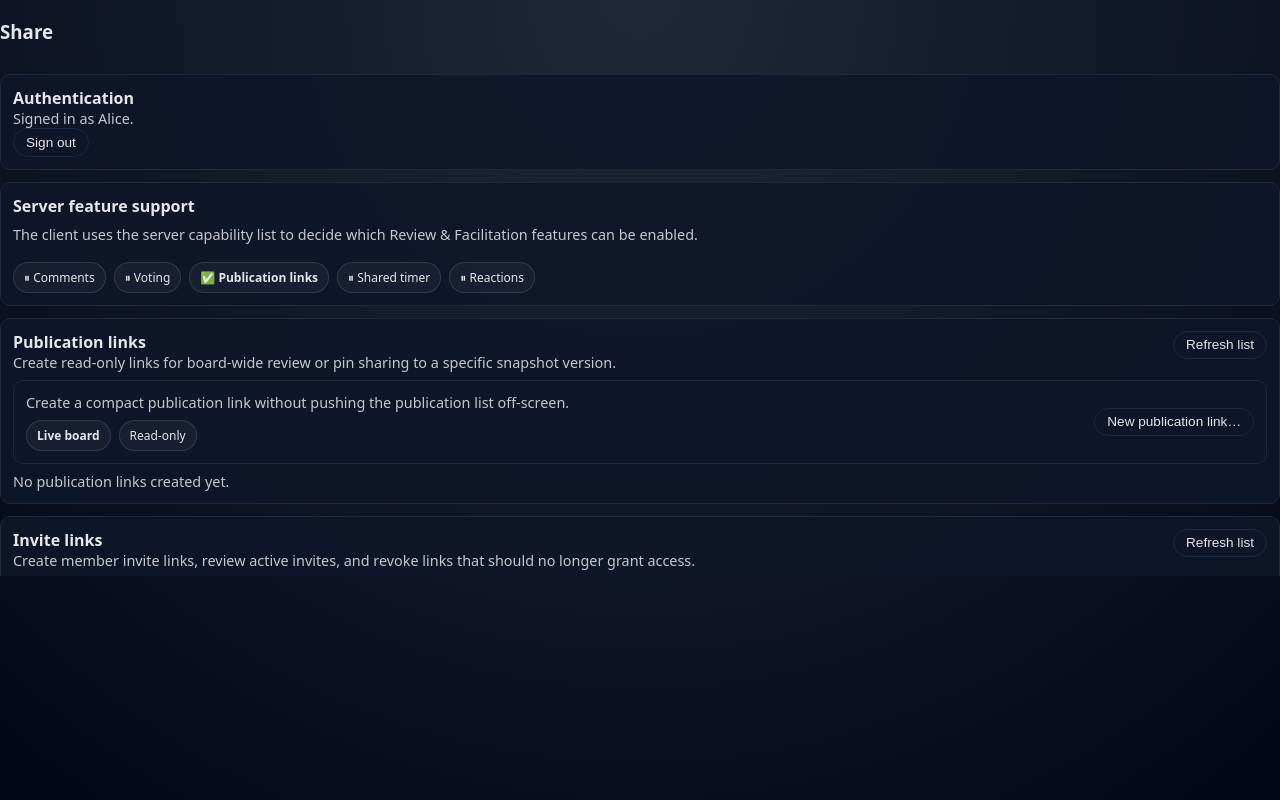
SharePanel publications › creates publication links when server capabilities advertise publications
The image size is (1280, 800).
Click the button "New publication link…" at (1174, 422), box [1094,408,1254,436]
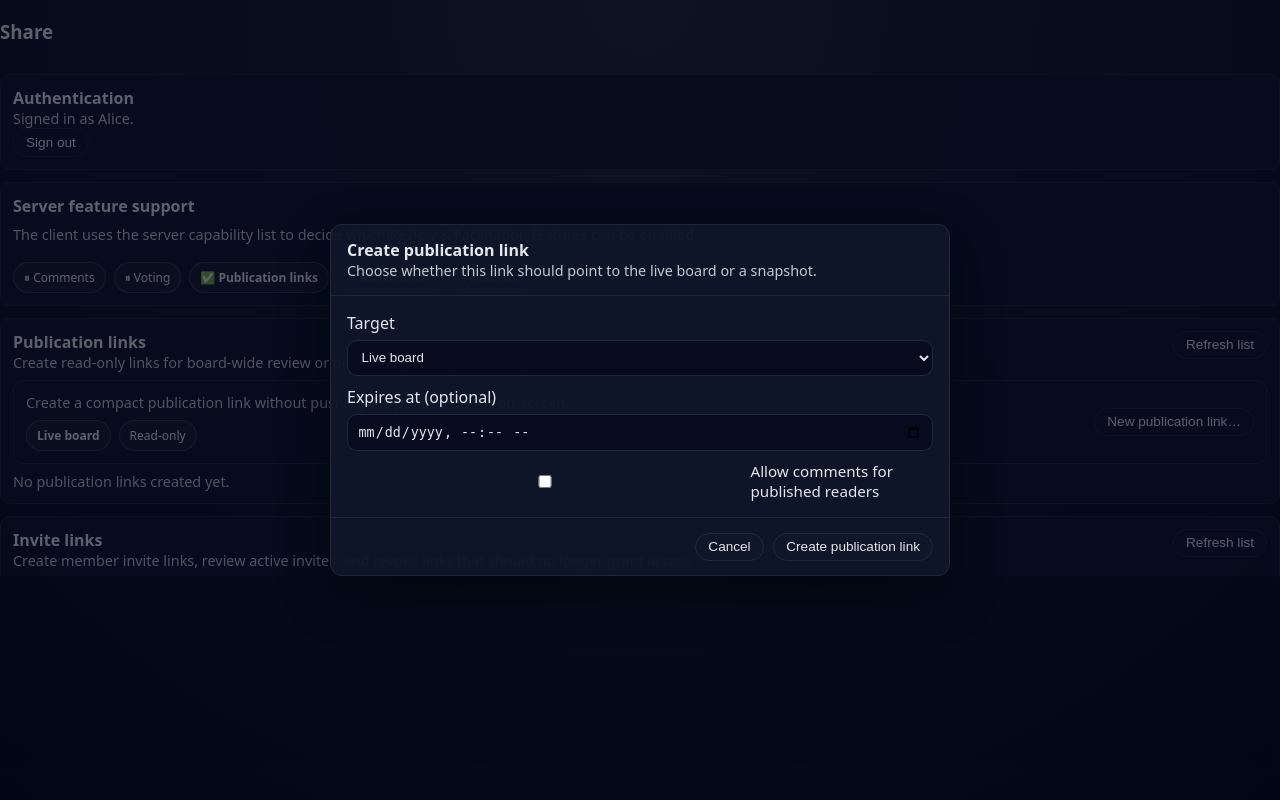
Select "Specific snapshot" in the dropdown named "Publication target" at (640, 358), box [347,340,933,376]
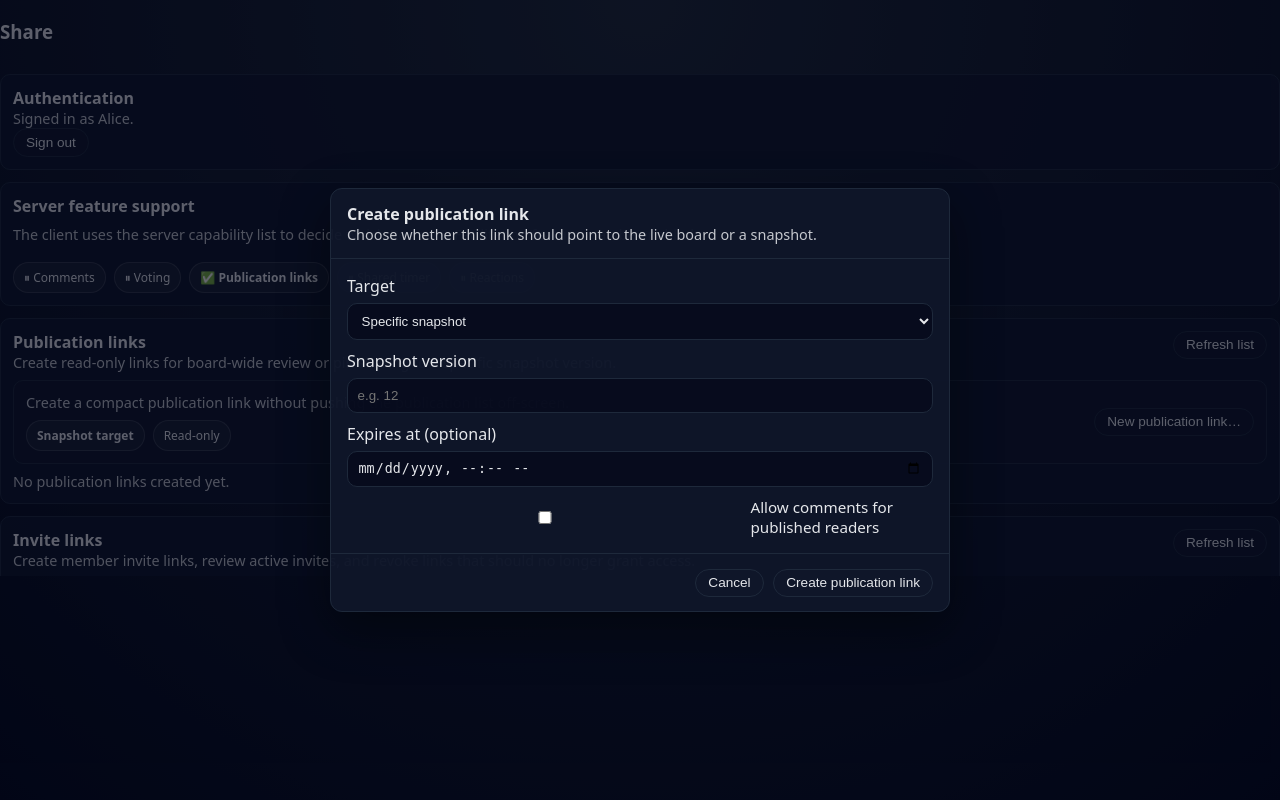
Type "7" into the number field labelled "Snapshot version" at (640, 395), box [347,378,933,412]
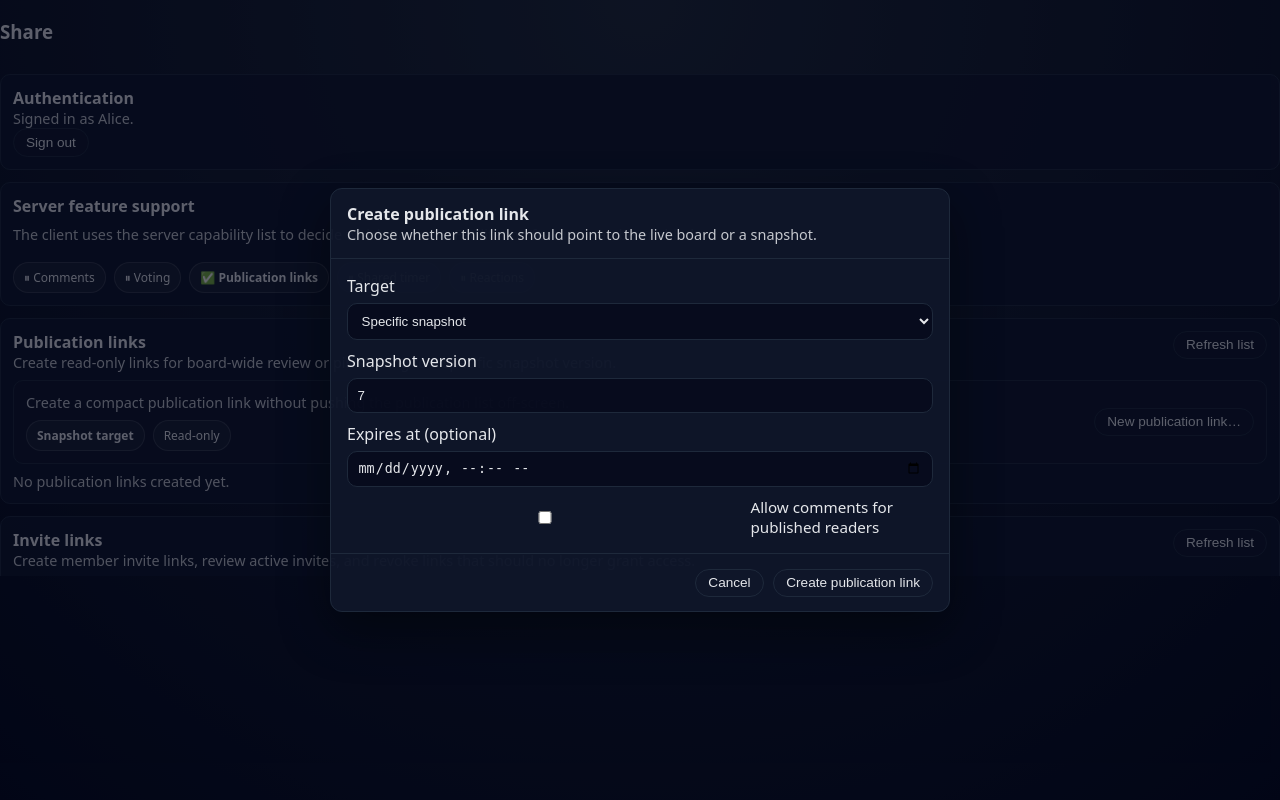
Click the checkbox labelled "Allow comments for published readers" at (545, 518), box [351,511,739,524]
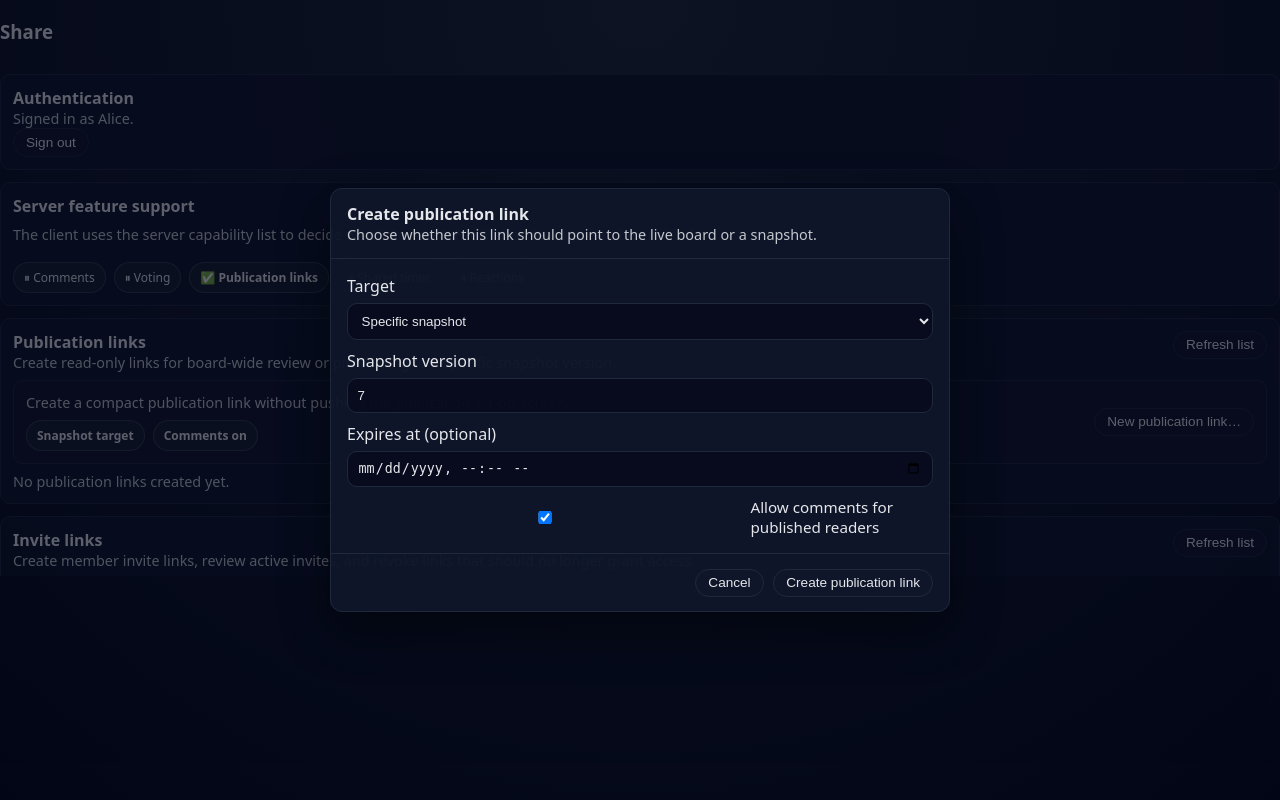
Click the button "Create publication link" at (853, 583), box [773,569,933,597]
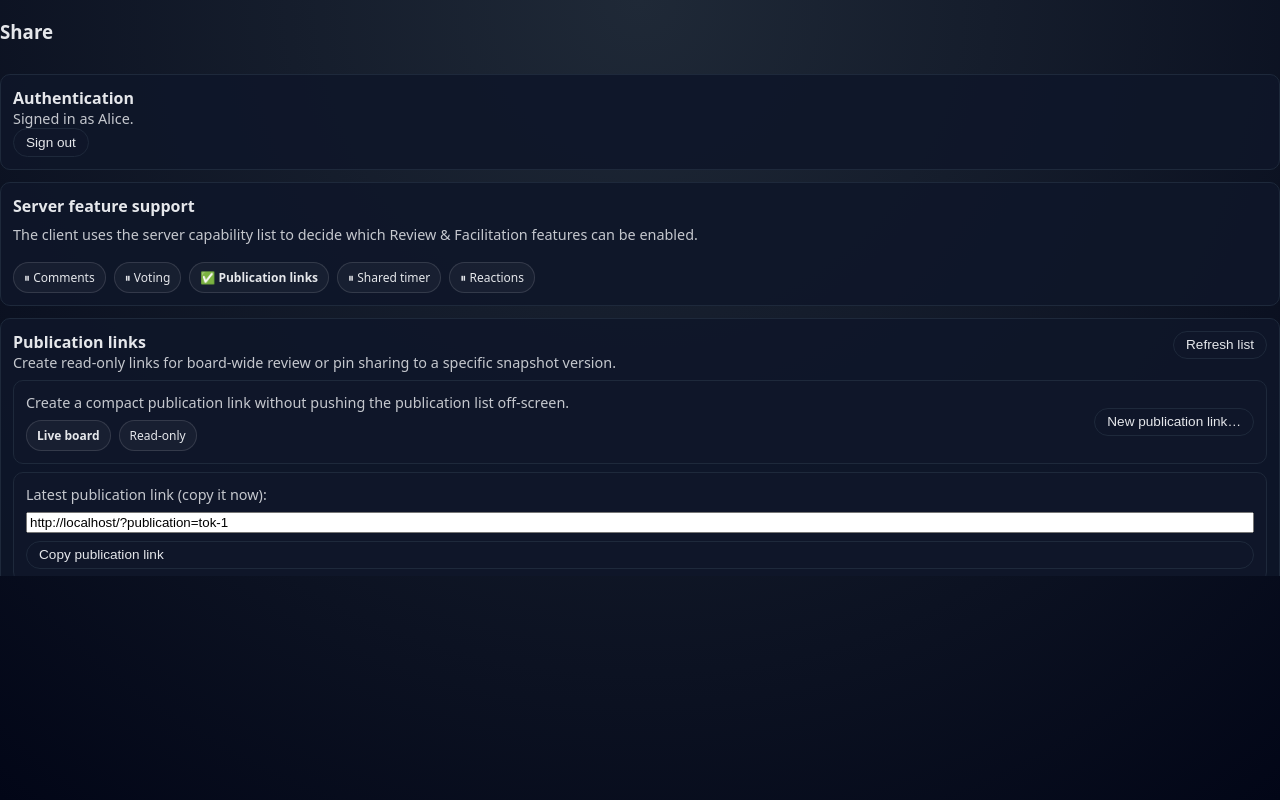
Expected: the field named "Latest publication link" holds "http://localhost/?publication=tok-1", [26,512,1254,533]
